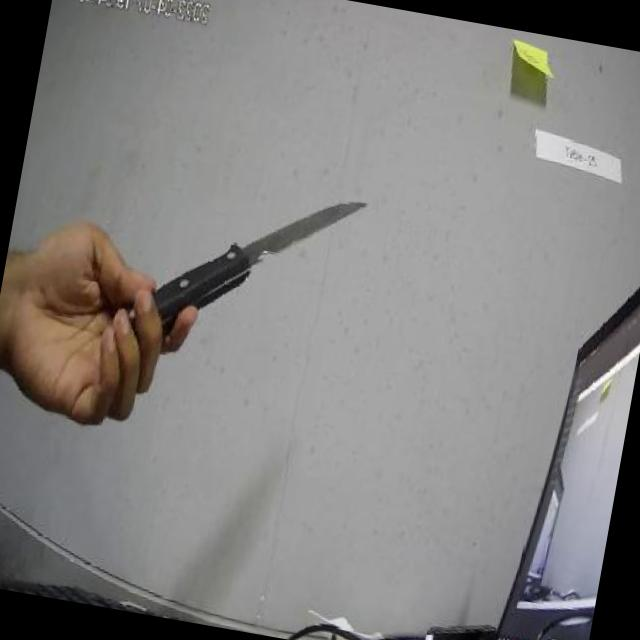knife: (144, 168, 371, 364)
